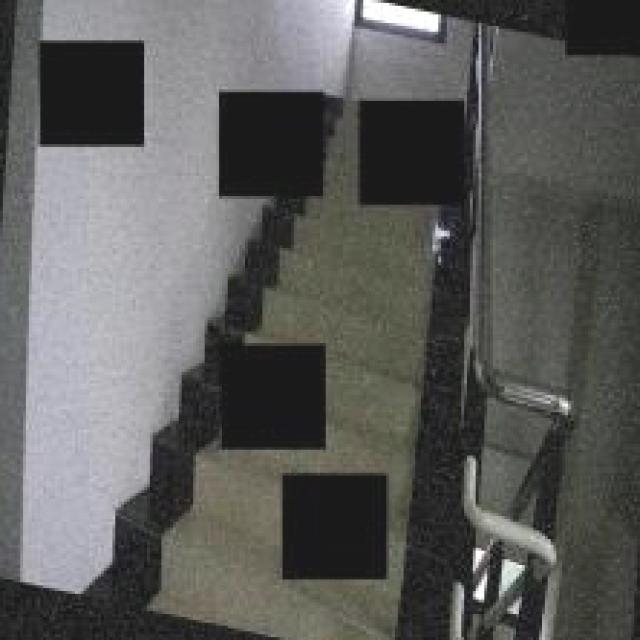upstair: (275, 220, 433, 336)
